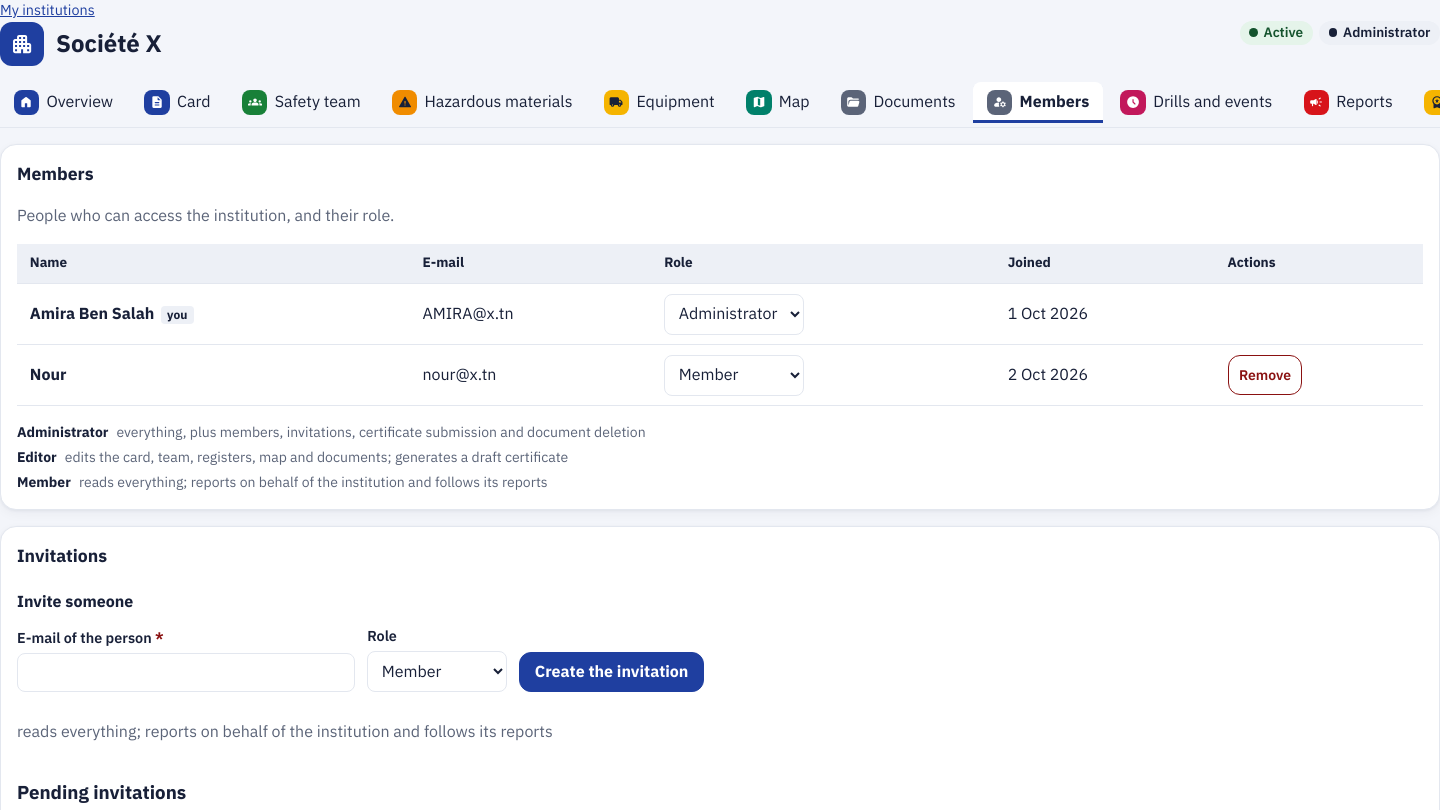
Test: role-based visibility › members: an admin changes roles, invites (one-time link) and gets the last-admin error on leaving
Step 1. Select "Editor" in the dropdown named "Role of Nour" in the row of "nour@x.tn" → (734, 375), box [664, 355, 804, 396]
Step 2. Type "new@x.tn" into the field labelled "E-mail of the person *" → (186, 672), box [17, 653, 355, 692]
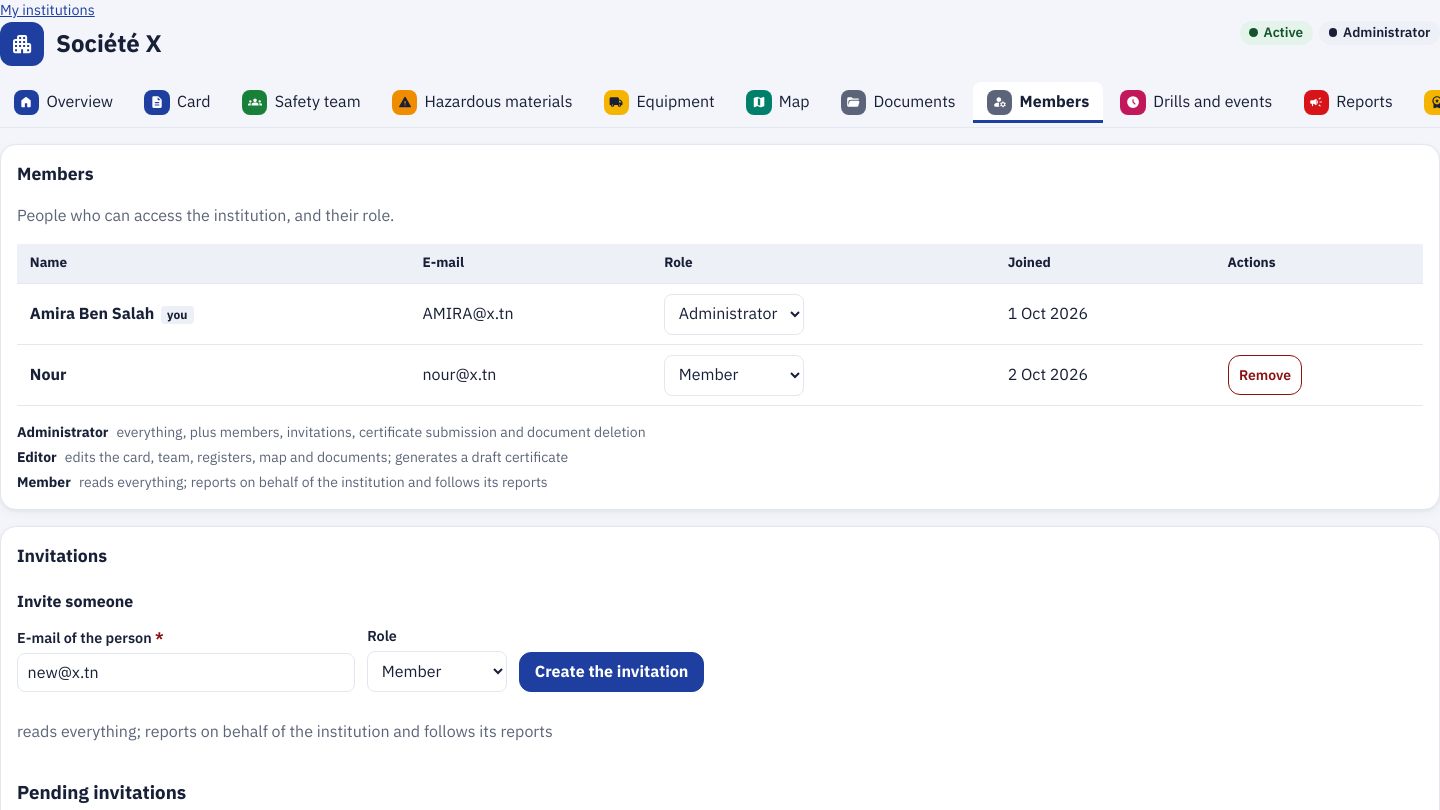
Step 3. Click the button "Create the invitation" → (612, 672), box [519, 652, 704, 692]
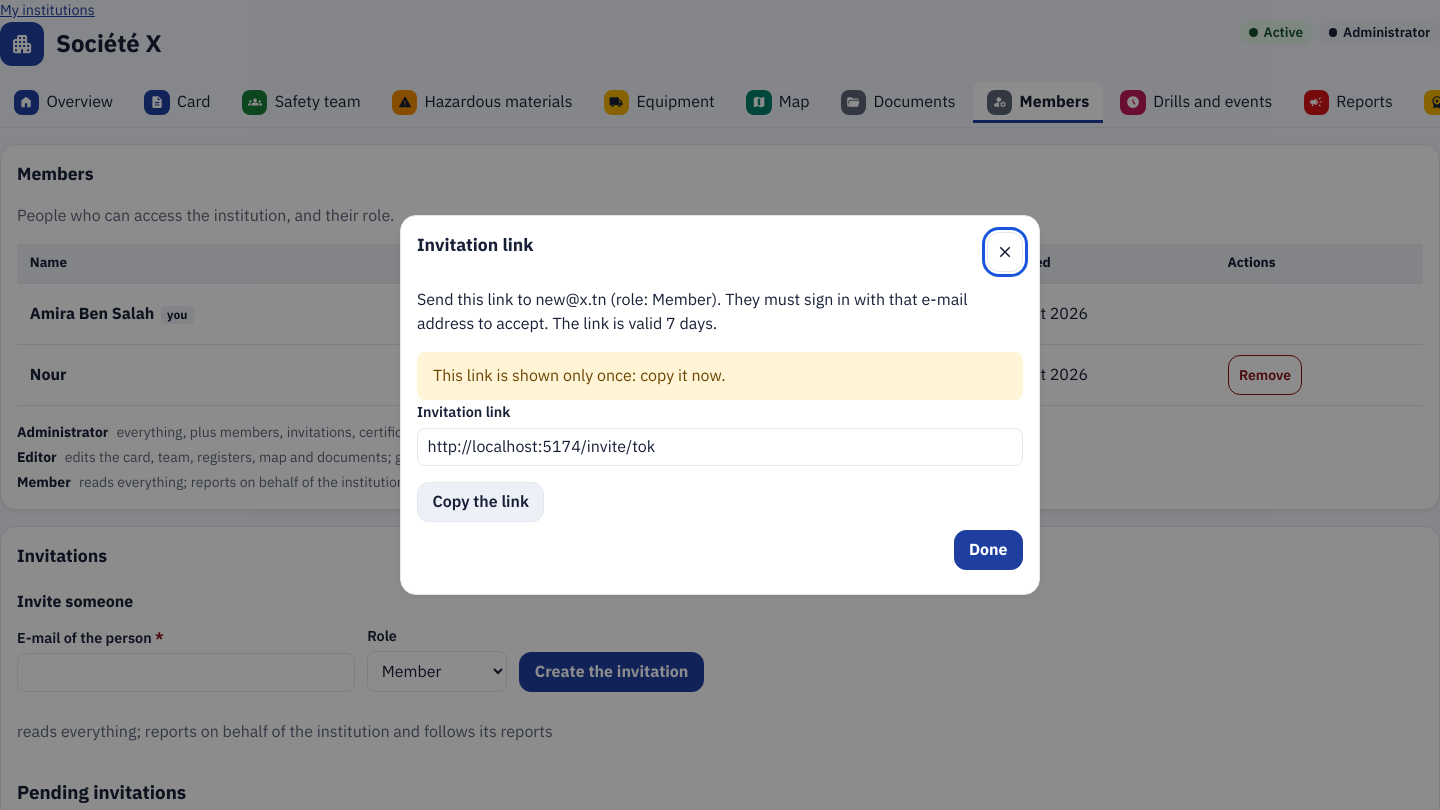
Expected: the field showing "http://localhost:5174/invite/tok" is shown, [417, 428, 1023, 466]
Expected: the button "Copy the link" is shown, [417, 482, 544, 522]
Step 4. Click the button "Done" → (988, 550), box [954, 530, 1023, 570]
(page scrolled)
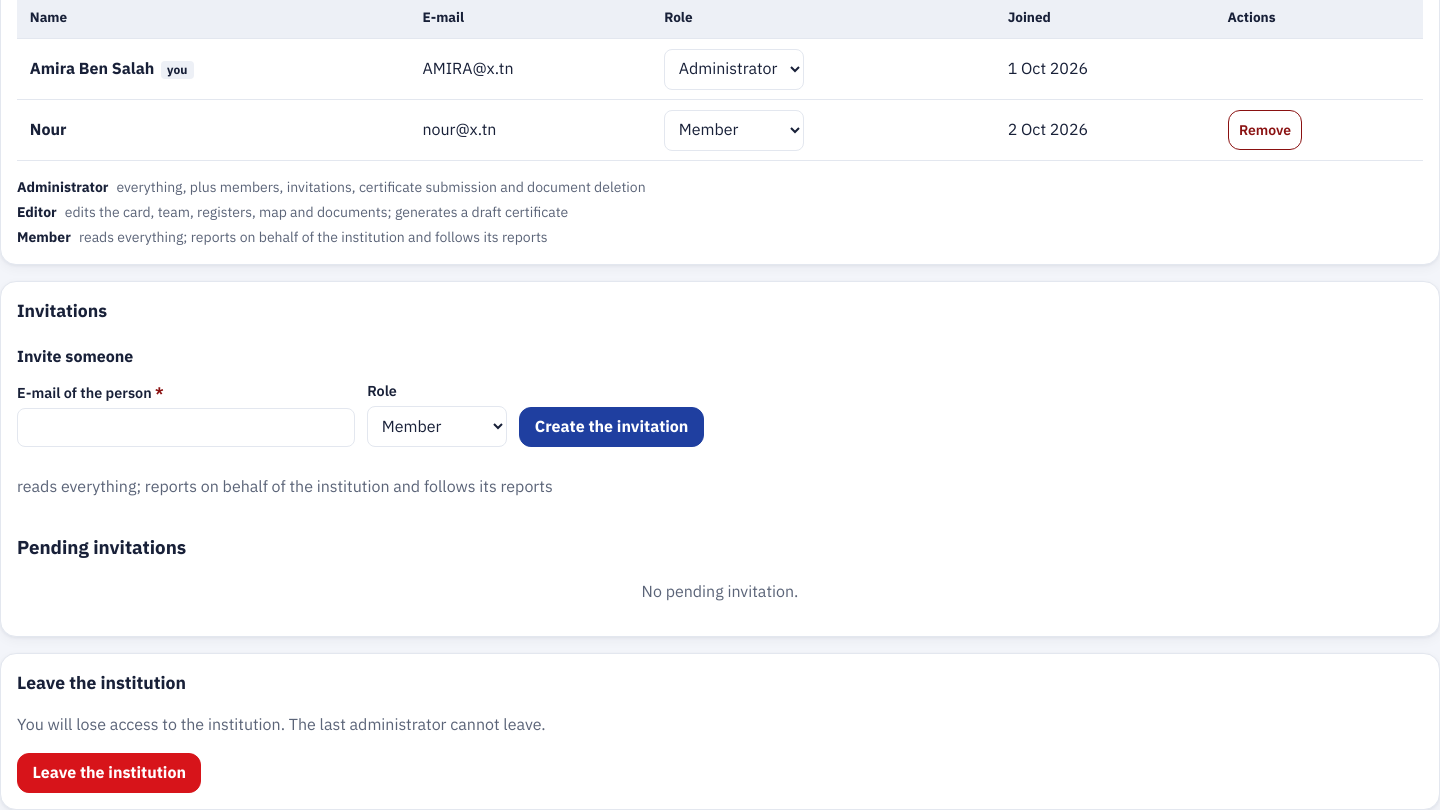
Step 5. Click the button "Leave the institution" → (109, 773), box [17, 753, 201, 793]
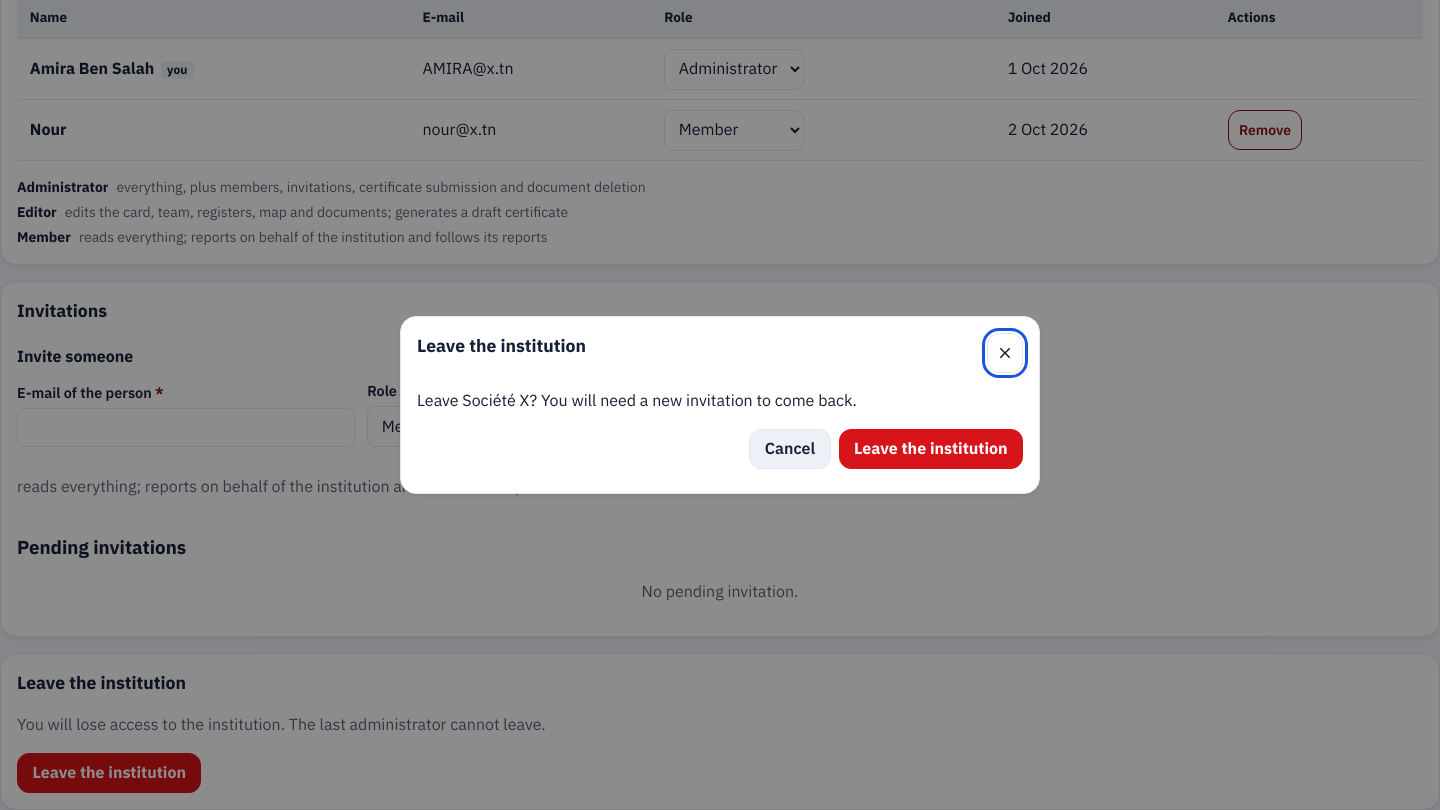
Step 6. Click the 1st button "Leave the institution" → (931, 449), box [839, 429, 1023, 469]
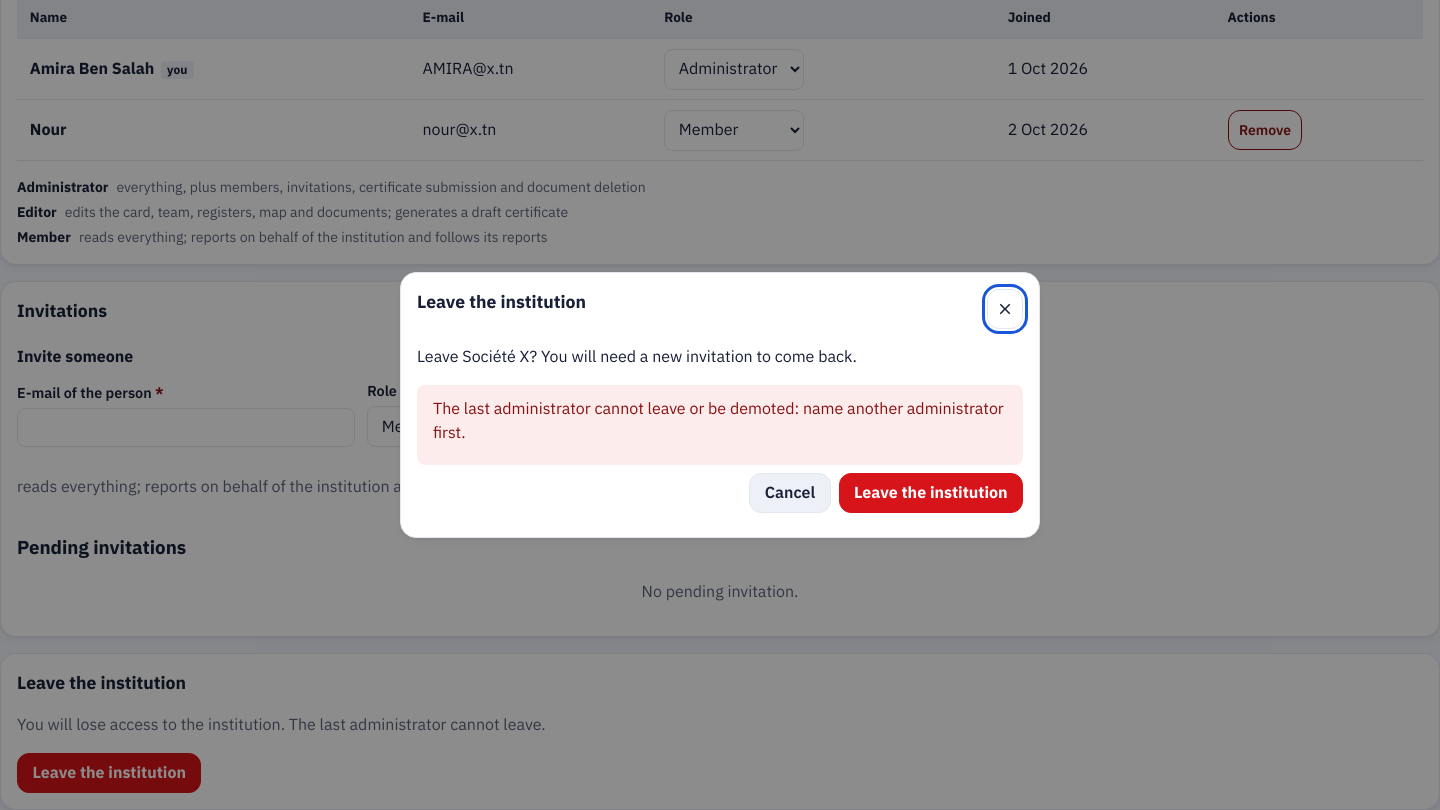
Expected: the text "The last administrator cannot leave or be demoted" is shown, [433, 397, 1004, 445]
